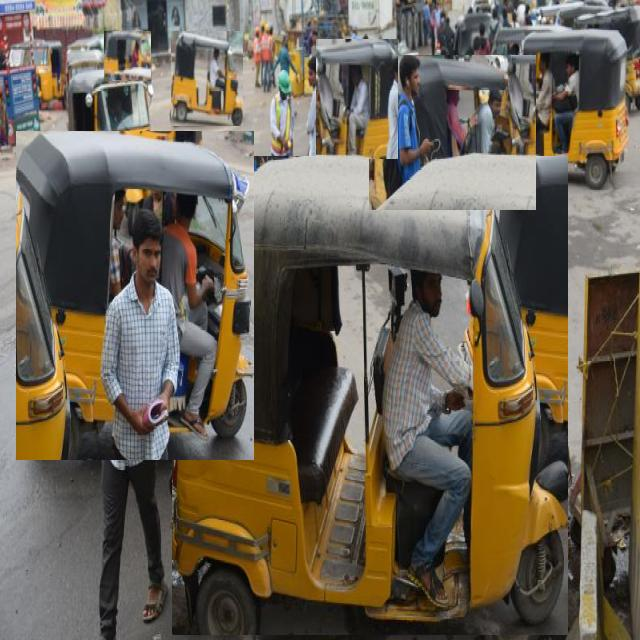autorickshaw: (172, 156, 568, 635), (16, 132, 254, 460), (369, 56, 535, 210), (521, 29, 628, 186), (316, 40, 398, 159), (171, 31, 242, 126), (68, 67, 152, 144), (104, 32, 151, 81), (30, 40, 65, 103)
